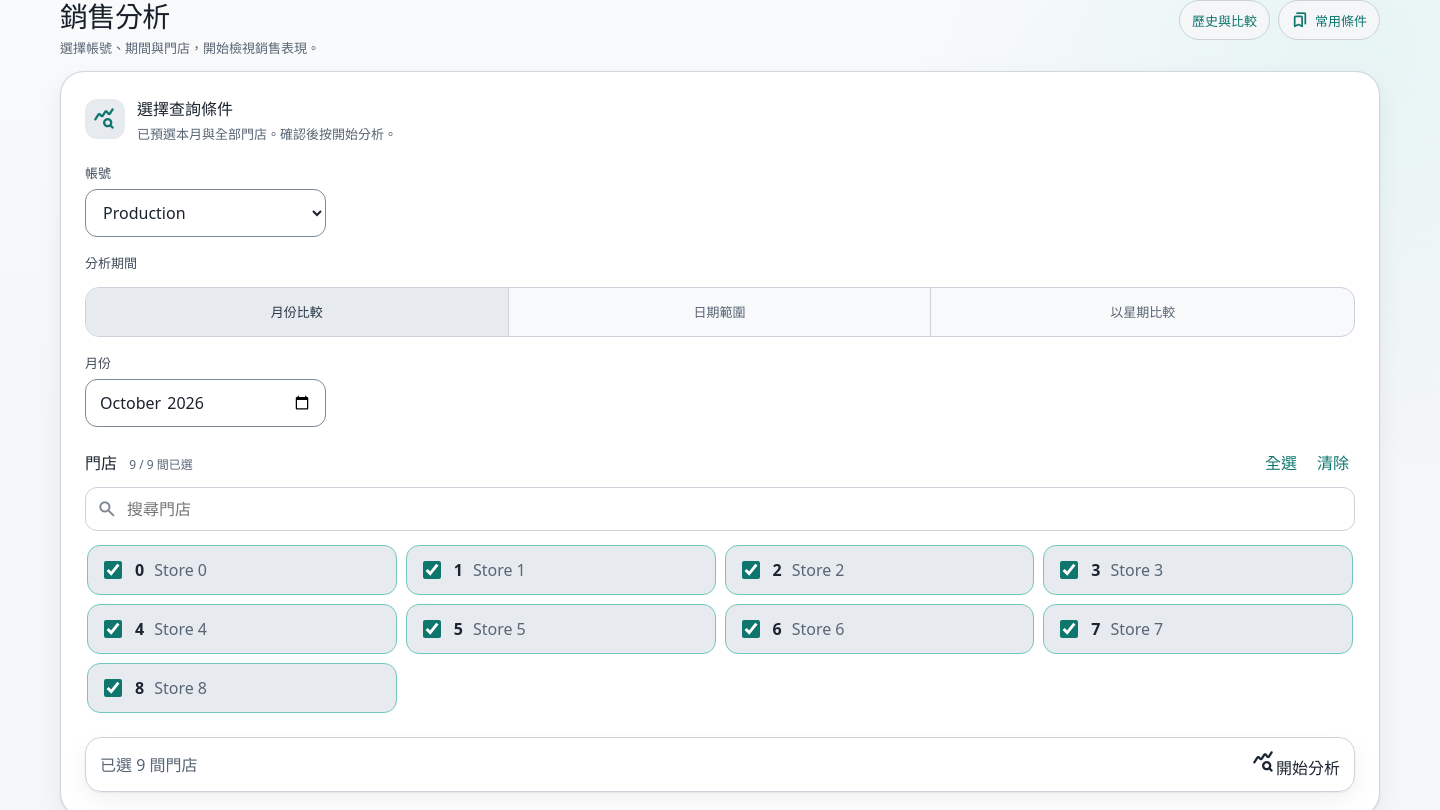
Test: analysis workspace interactions › limits bulk store selection to matches and preserves hidden selections
Check: the text "已選 9 間門店" is shown, box [100,752,198,776]
Type "Store 0" into the field labelled "搜尋門店". click: [730, 509]
box: [125,497,1335,521]
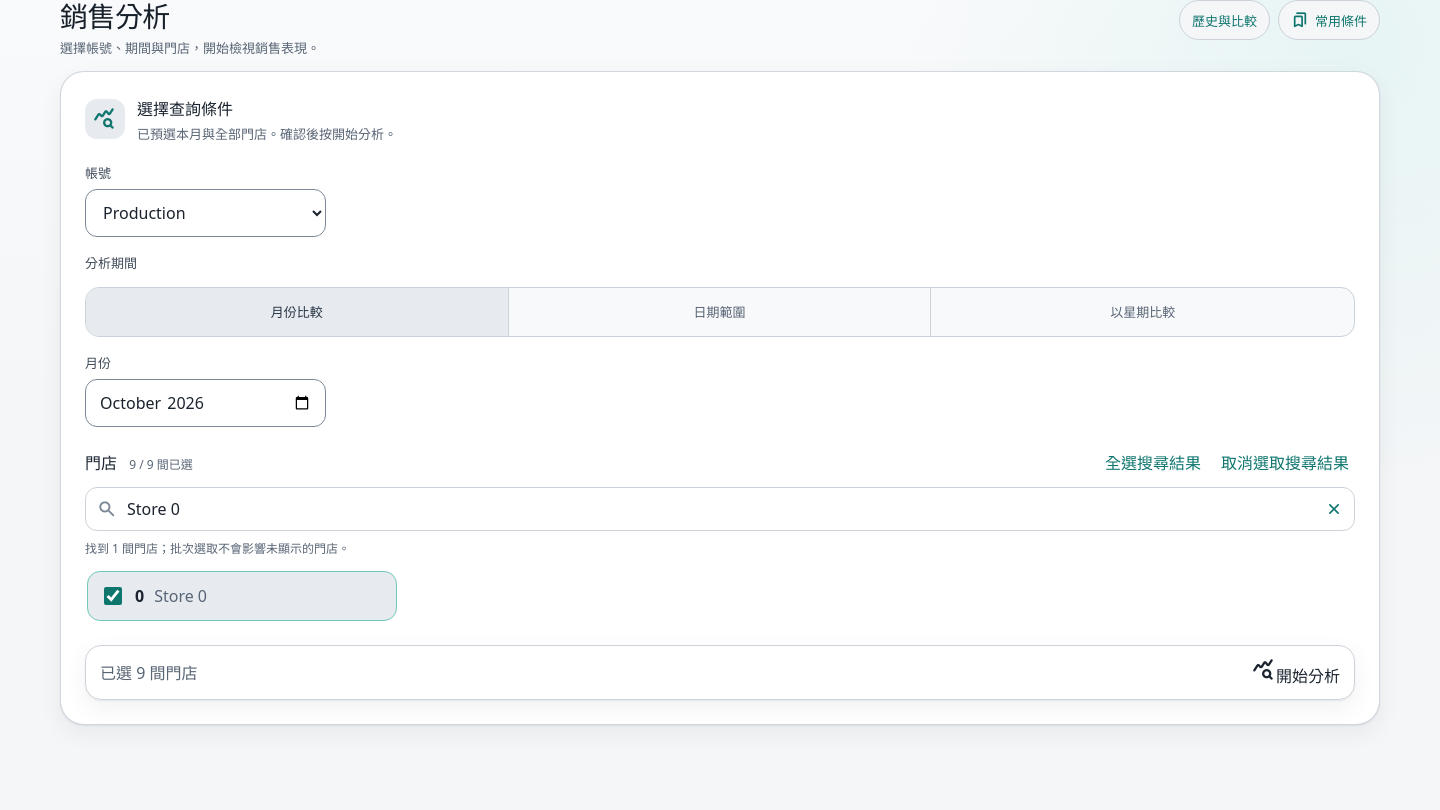
Click the button "取消選取搜尋結果". click: [1285, 462]
box: [1215,449,1355,475]
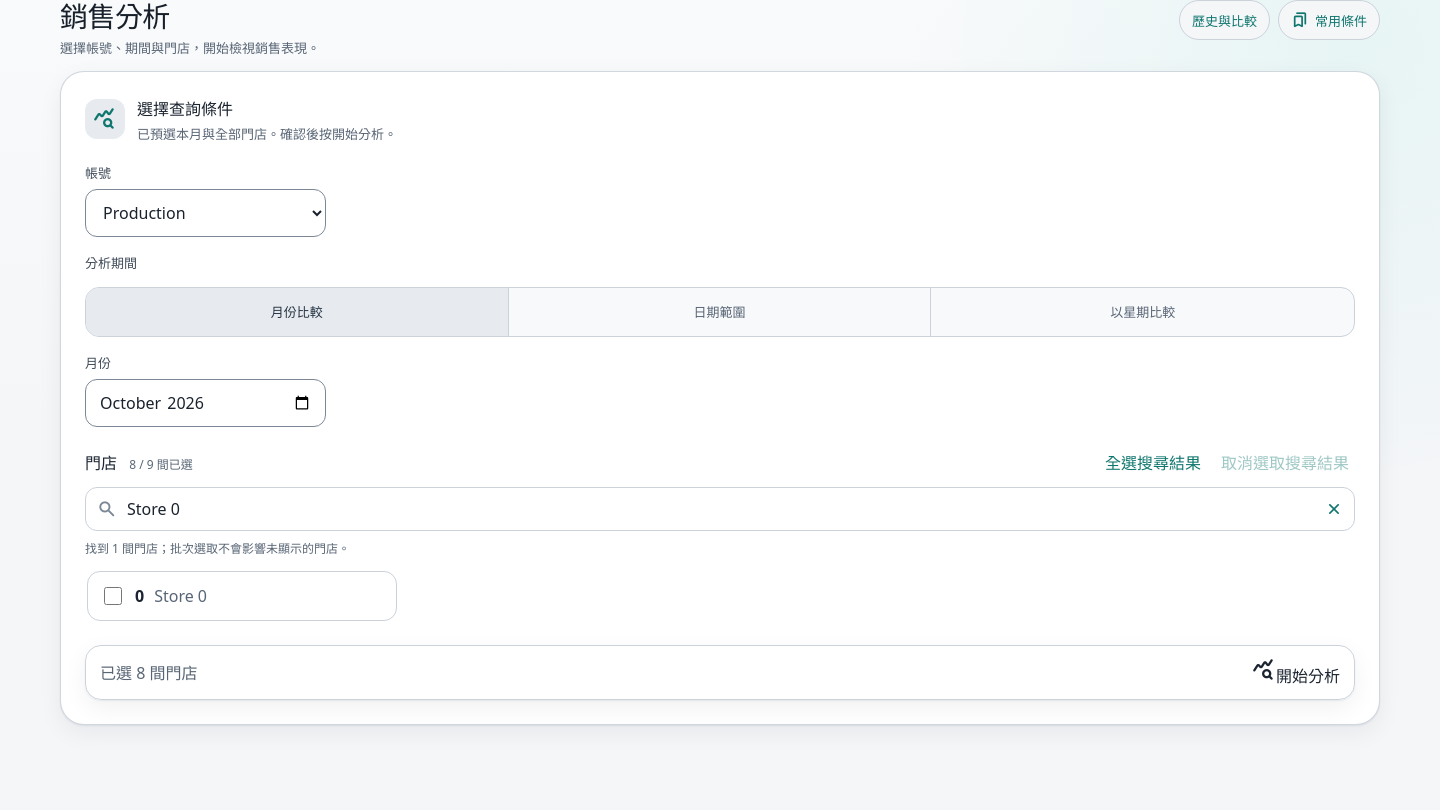
Check: the text "已選 8 間門店" is shown, box [100,660,198,684]
Click the button "全選搜尋結果". click: [1153, 462]
box: [1099,449,1207,475]
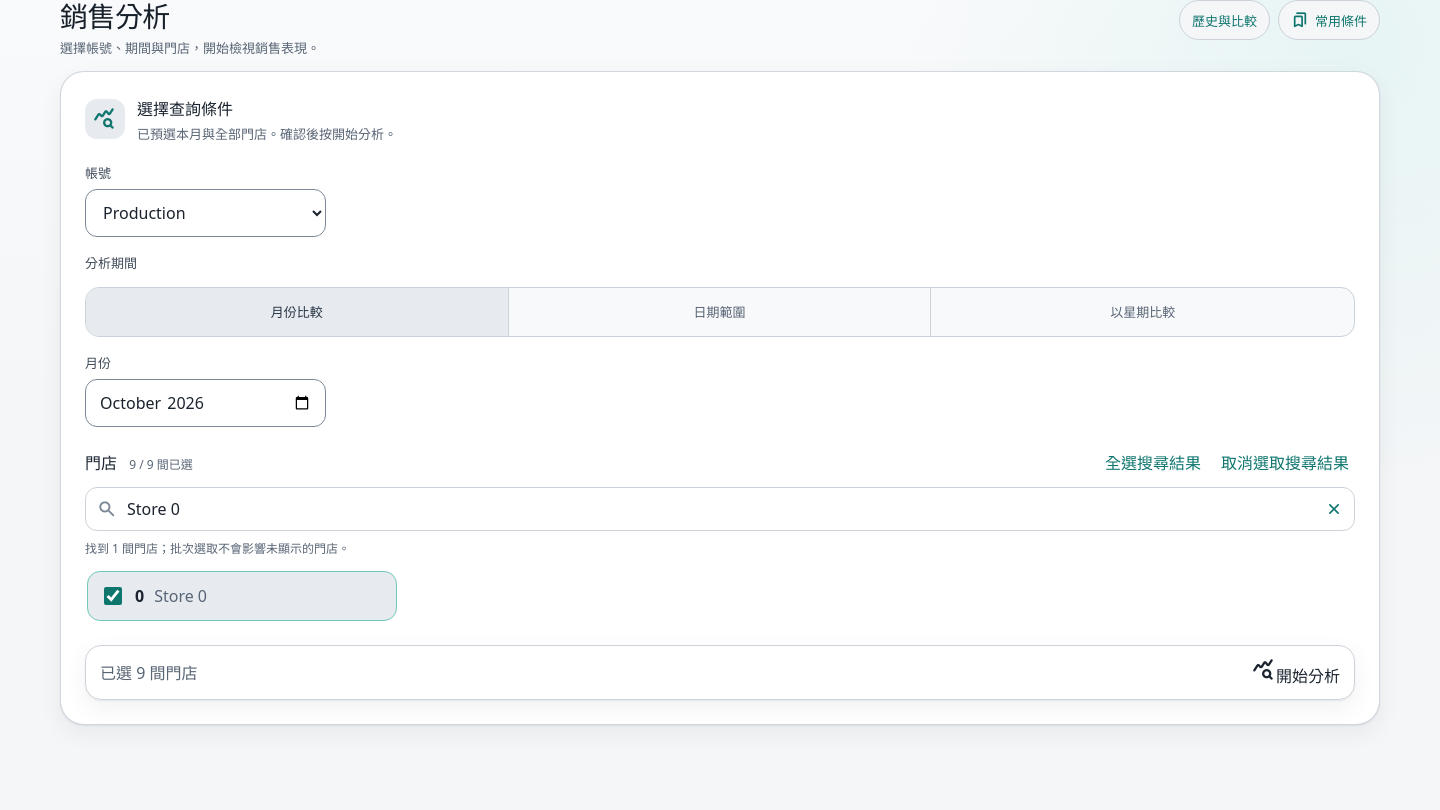
Check: the text "已選 9 間門店" is shown, box [100,660,198,684]
Replace the text in the field named "搜尋門店" with "missing". click: [721, 509]
box: [125,497,1317,521]
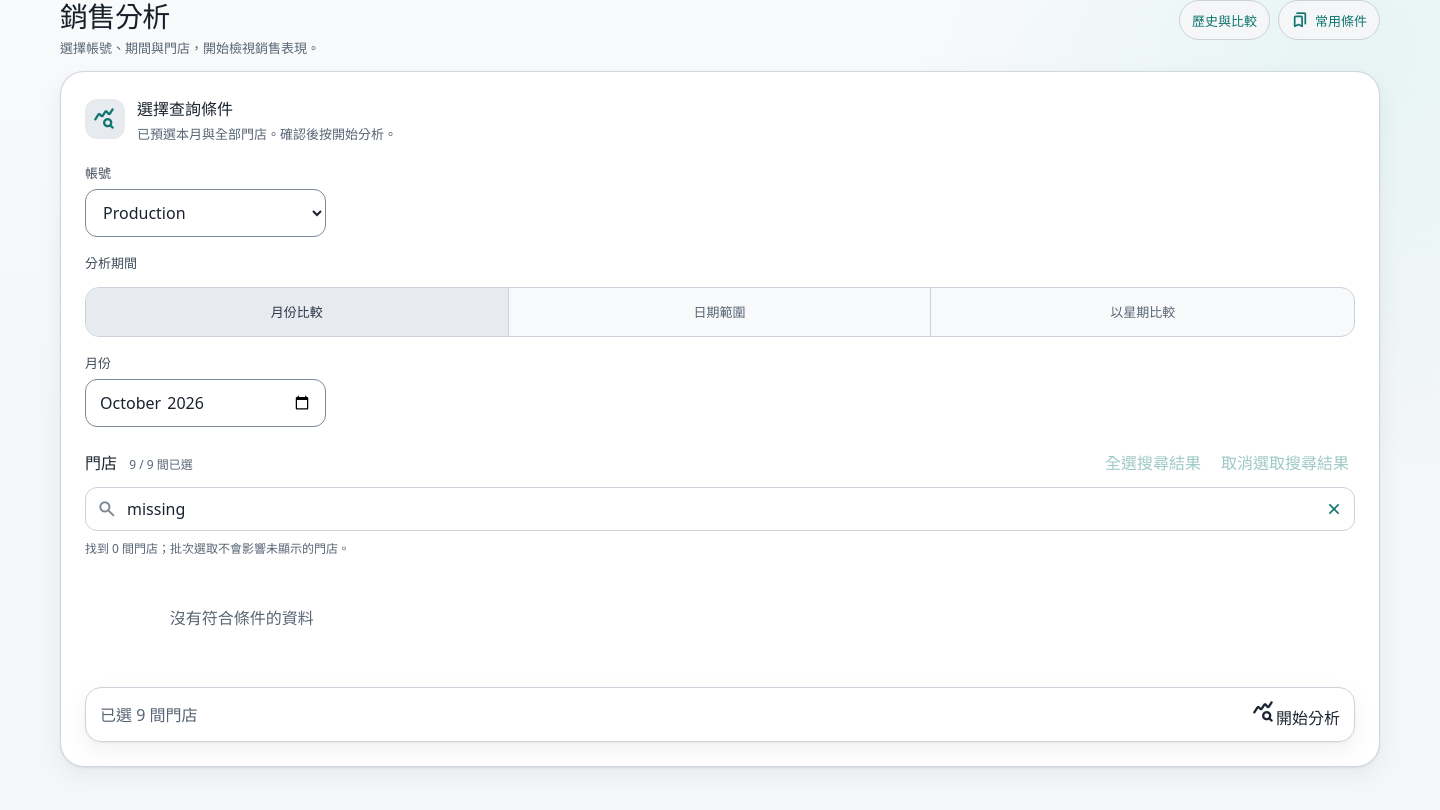
Check: the button "全選搜尋結果" is disabled, box [1099,449,1207,475]
